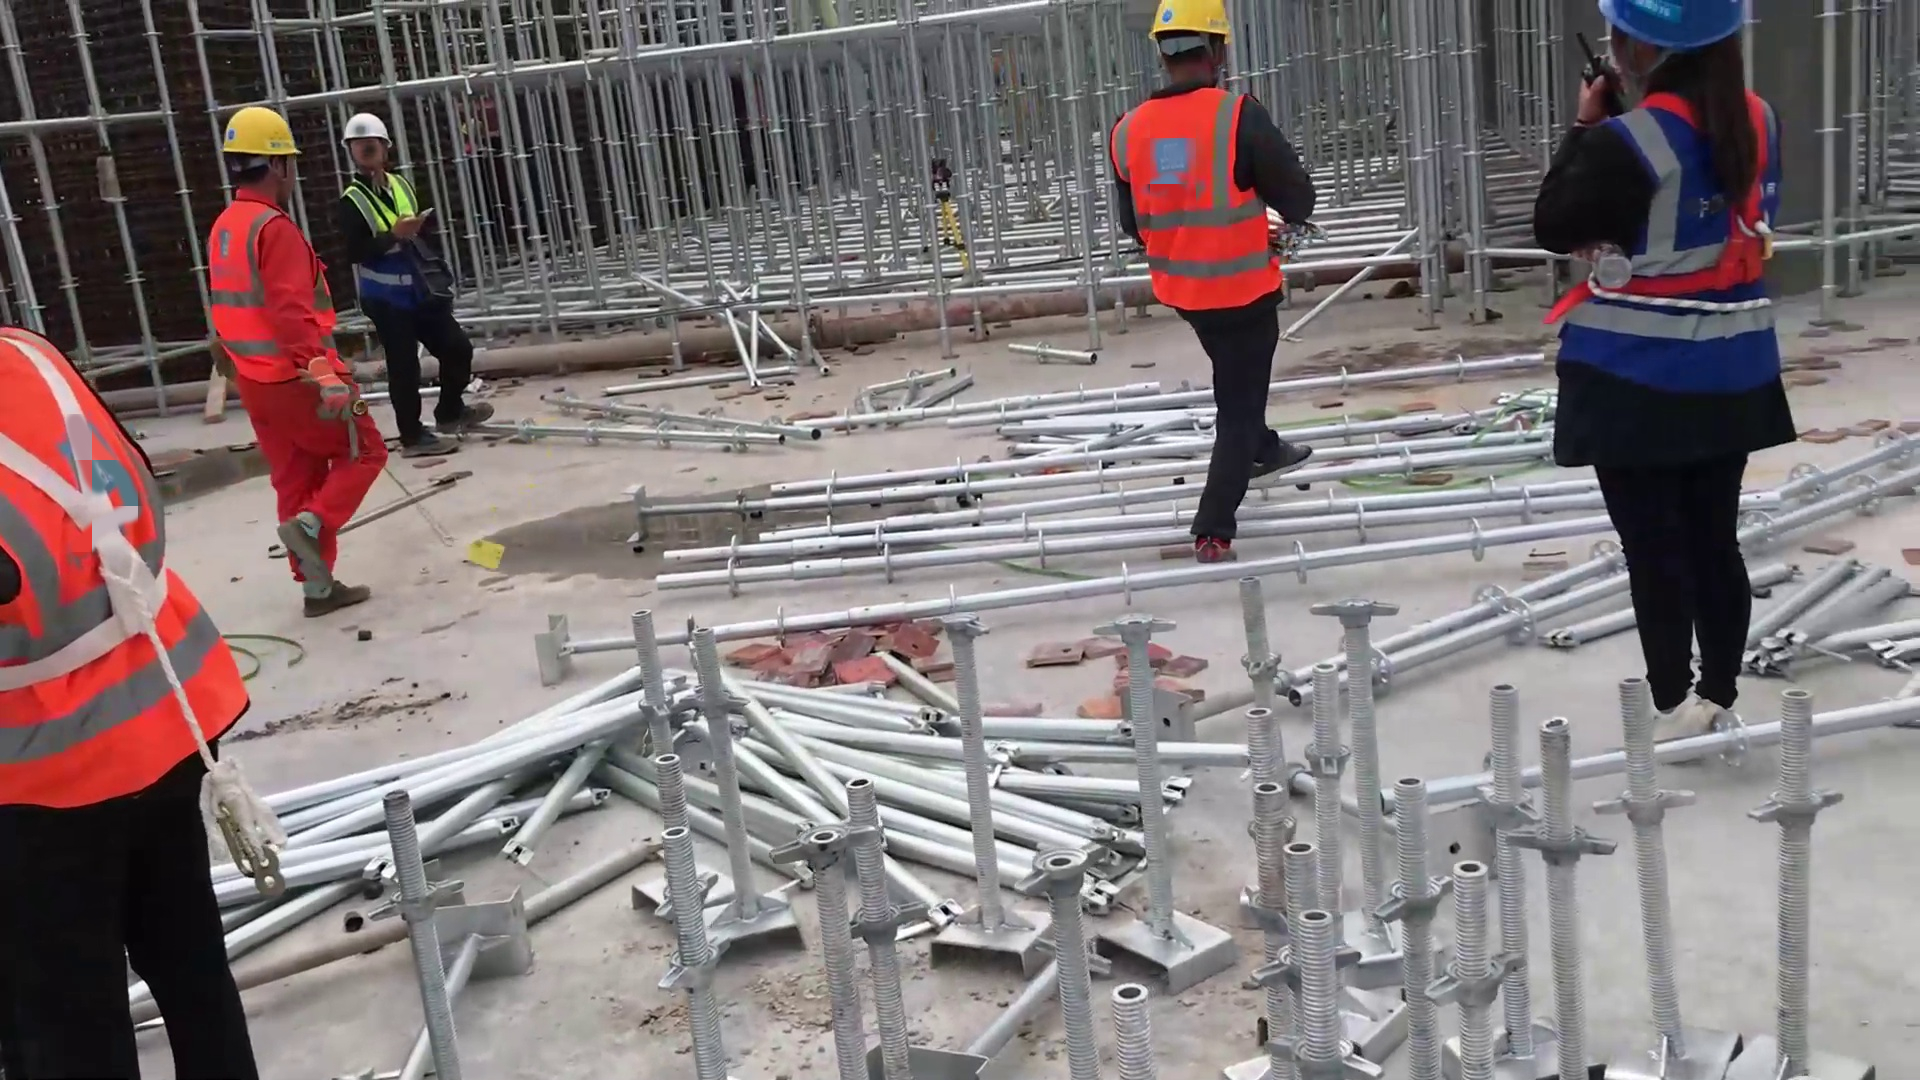helmet: (1594, 1, 1754, 54), (219, 106, 306, 159), (1147, 1, 1239, 46), (342, 110, 395, 152)
person: (1535, 1, 1806, 768), (1, 330, 276, 1080), (1098, 1, 1320, 567), (201, 101, 388, 629), (330, 104, 493, 452)
vest: (1, 330, 256, 818), (1555, 93, 1795, 397), (1110, 85, 1291, 312), (204, 187, 355, 390), (349, 179, 459, 313)
